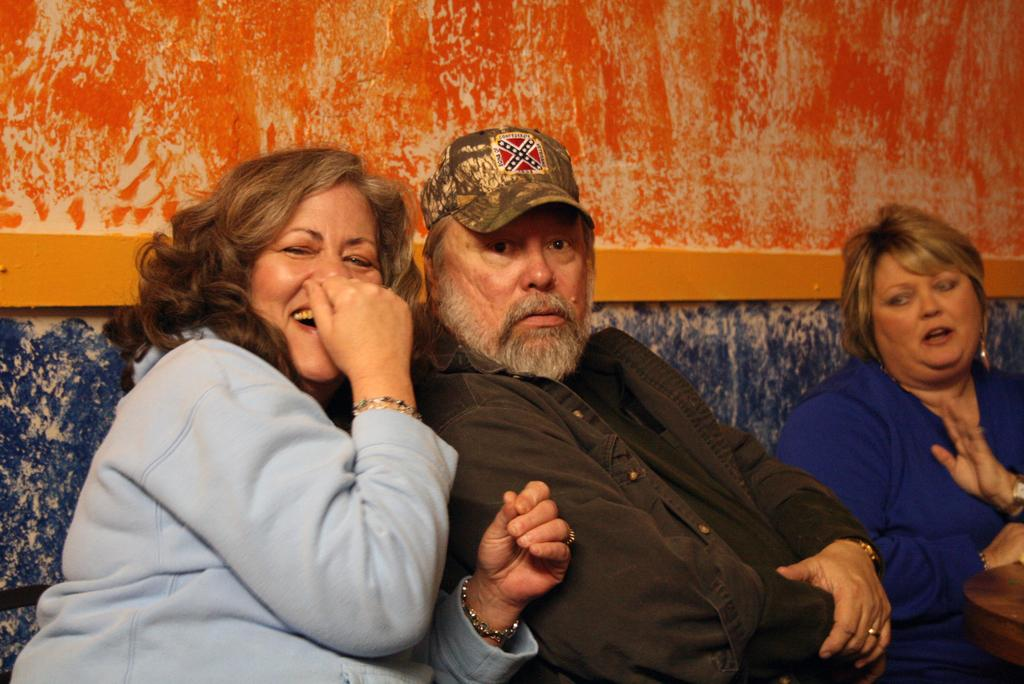Hat: (416, 124, 596, 230)
